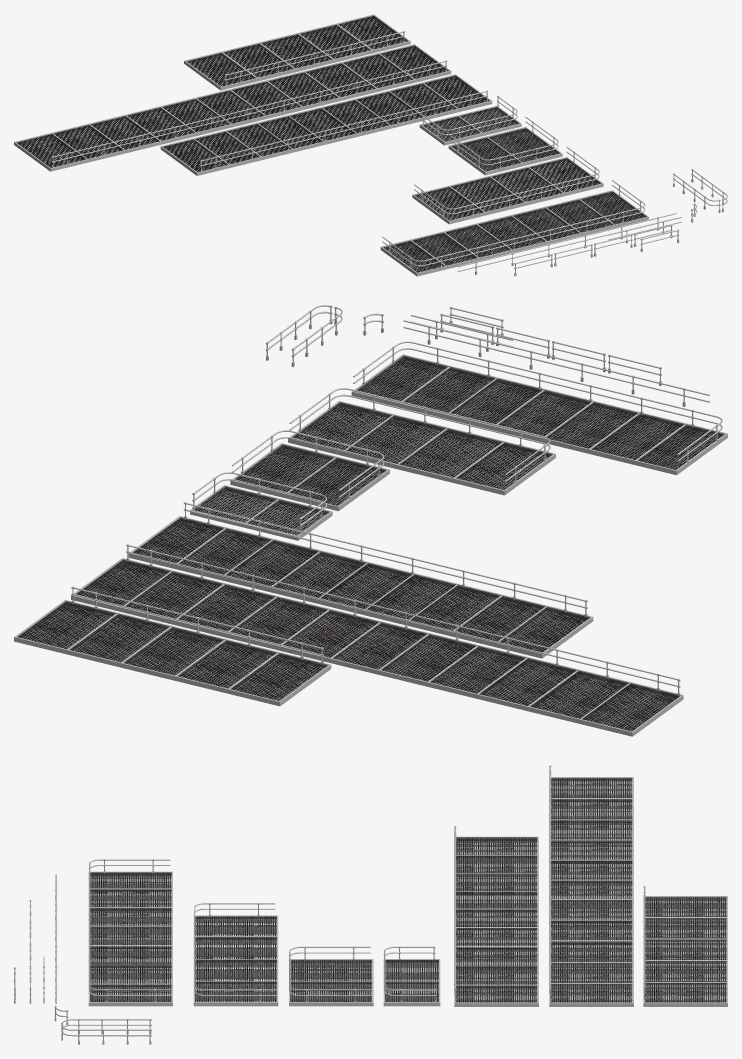
The model's file is Metal_platform_v1.FBX.
3 renders of one model, top to bottom at view 1: azimuth 30°, elevation 25°; view 2: azimuth 150°, elevation 25°; view 3: azimuth 270°, elevation 25°, orthographic. The views are drawn at different scales.
Parts seen in each view (by area): view 1: Metal_platform_v1_6G, Metal_platform_v1_5G, Metal_platform_v1_4G, Metal_platform_v1_7G, Metal_platform_v1_3G, Metal_platform_v1_6, Metal_platform_v1_5, Metal_platform_v1_2G, Metal_platform_v1_4, Metal_platform_v1_7, Metal_platform_v1_3, Metal_platform_v1_6R (+11 smaller); view 2: Metal_platform_v1_6G, Metal_platform_v1_5G, Metal_platform_v1_4G, Metal_platform_v1_7G, Metal_platform_v1_3G, Metal_platform_v1_6, Metal_platform_v1_5, Metal_platform_v1_2G, Metal_platform_v1_4, Metal_platform_v1_7, Metal_platform_v1_1G, Metal_platform_v1_3 (+11 smaller); view 3: Metal_platform_v1_6G, Metal_platform_v1_5G, Metal_platform_v1_4G, Metal_platform_v1_7G, Metal_platform_v1_3G, Metal_platform_v1_6, Metal_platform_v1_5, Metal_platform_v1_2G, Metal_platform_v1_4, Metal_platform_v1_7, Metal_platform_v1_1G, Metal_platform_v1_3 (+8 smaller).
Boxes of the visible parts, box(x1,y1,x2,y2) form: Metal_platform_v1_6G: box(17, 45, 447, 167); Metal_platform_v1_5G: box(163, 75, 488, 172); Metal_platform_v1_4G: box(383, 191, 646, 272); Metal_platform_v1_7G: box(187, 16, 407, 86); Metal_platform_v1_3G: box(415, 158, 600, 220); Metal_platform_v1_6: box(14, 44, 451, 171); Metal_platform_v1_5: box(160, 74, 492, 175); Metal_platform_v1_2G: box(451, 128, 559, 171); Metal_platform_v1_4: box(380, 190, 648, 276); Metal_platform_v1_7: box(184, 14, 410, 90); Metal_platform_v1_3: box(412, 157, 603, 224); Metal_platform_v1_6R: box(51, 60, 447, 167); Metal_platform_v1_6G: box(76, 560, 679, 731); Metal_platform_v1_5G: box(133, 517, 589, 652); Metal_platform_v1_4G: box(357, 356, 724, 469); Metal_platform_v1_7G: box(17, 601, 327, 700); Metal_platform_v1_3G: box(292, 402, 552, 489); Metal_platform_v1_6: box(71, 558, 683, 736); Metal_platform_v1_5: box(128, 516, 593, 658); Metal_platform_v1_2G: box(235, 445, 385, 505); Metal_platform_v1_4: box(351, 354, 727, 475); Metal_platform_v1_7: box(14, 599, 331, 706); Metal_platform_v1_1G: box(194, 487, 328, 535); Metal_platform_v1_3: box(288, 401, 555, 495); Metal_platform_v1_6G: box(550, 778, 632, 1002); Metal_platform_v1_5G: box(455, 837, 537, 1002); Metal_platform_v1_4G: box(90, 872, 171, 1001); Metal_platform_v1_7G: box(645, 897, 726, 1002); Metal_platform_v1_3G: box(195, 916, 276, 1001); Metal_platform_v1_6: box(549, 777, 633, 1006); Metal_platform_v1_5: box(454, 836, 538, 1006); Metal_platform_v1_2G: box(290, 960, 371, 1001); Metal_platform_v1_4: box(88, 871, 172, 1006); Metal_platform_v1_7: box(643, 896, 727, 1006); Metal_platform_v1_1G: box(385, 960, 438, 1001); Metal_platform_v1_3: box(193, 915, 278, 1006).
Bounding box in the file's own units: 44.59 × 1.3 × 50.67.
